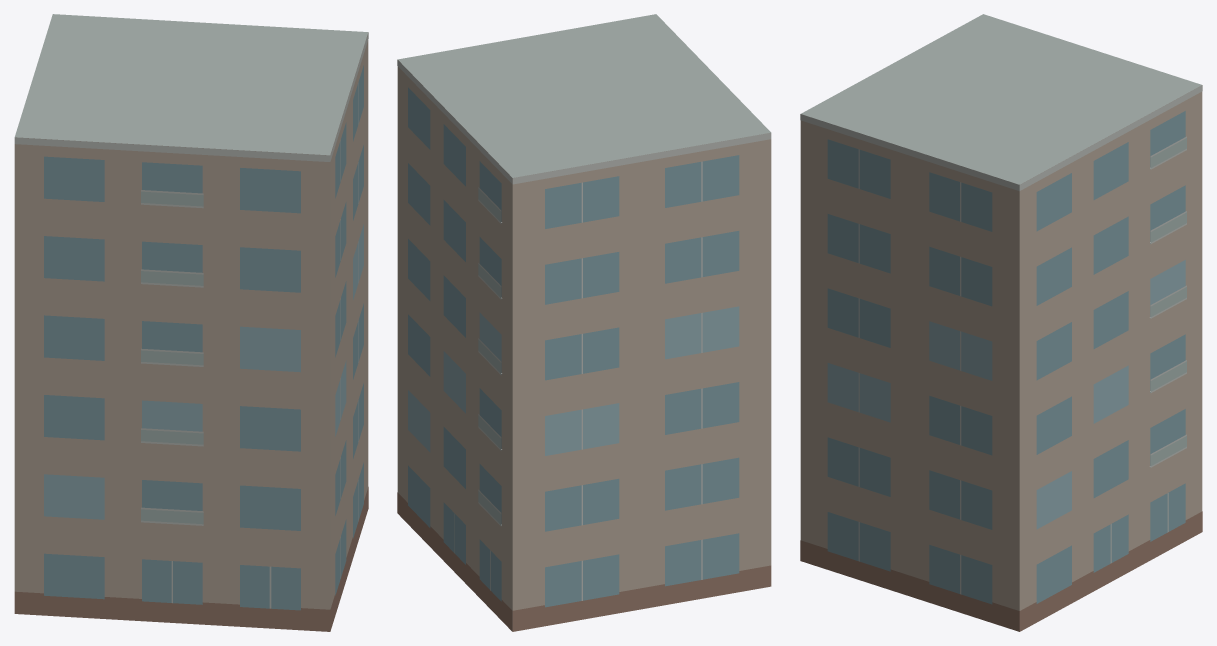
File: survey-upis-32640458.glb
3 renders of one model, left to right at view 1: azimuth 30°, elevation 25°; view 2: azimuth 150°, elevation 25°; view 3: azimuth 270°, elevation 25°, orthographic. The views are drawn at different scales.
Parts seen in each view (by area): view 1: survey-upis-32640458.tmp; view 2: survey-upis-32640458.tmp; view 3: survey-upis-32640458.tmp.
Part boxes in pixels (x1=…): survey-upis-32640458.tmp: x1=14, y1=14, x2=368, y2=631; survey-upis-32640458.tmp: x1=397, y1=14, x2=771, y2=631; survey-upis-32640458.tmp: x1=800, y1=14, x2=1202, y2=631.
Bounding box in the file's own units: 14.02 × 17.1 × 13.94.
